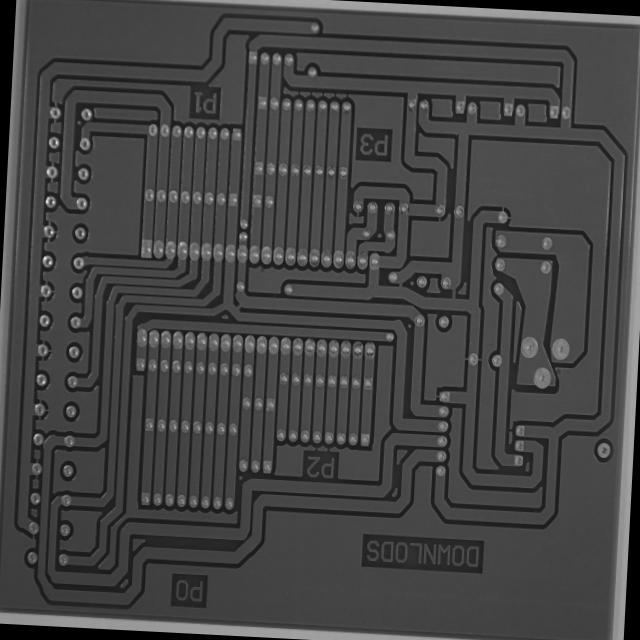short: (228, 290, 250, 318), (389, 272, 412, 296)
